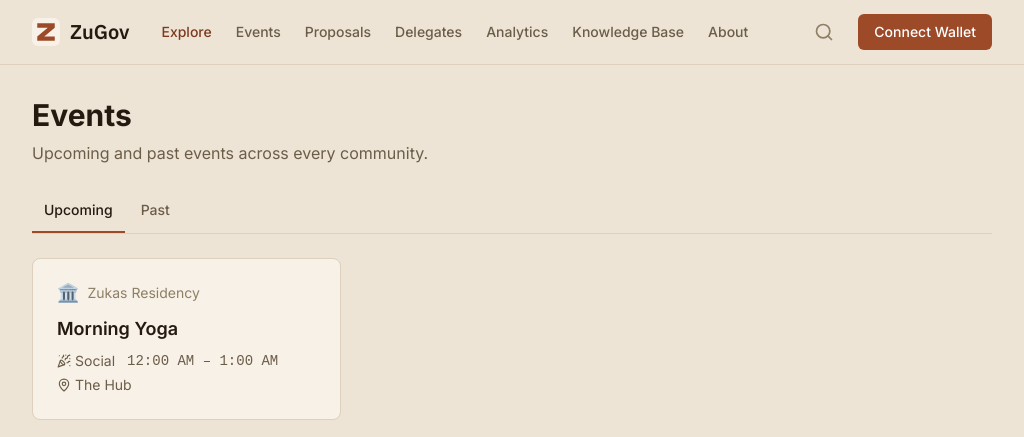
Scenario: EventsPage › defaults to upcoming, and switching to past refetches with collection=past
Check: the heading "Morning Yoga" is shown, box [57,318,178,339]
Step 1. Click the button "past" → (155, 211), box [129,189,182,233]
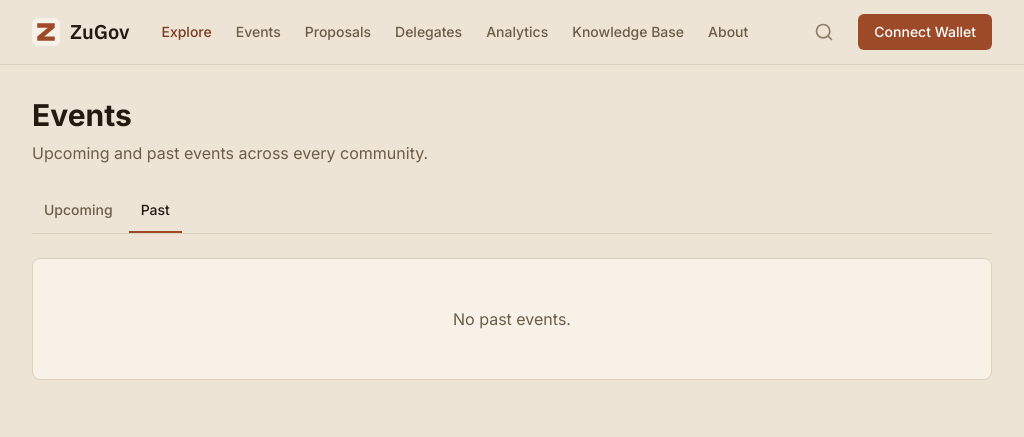
Check: the text "No past events." is shown, box [453,309,571,329]
